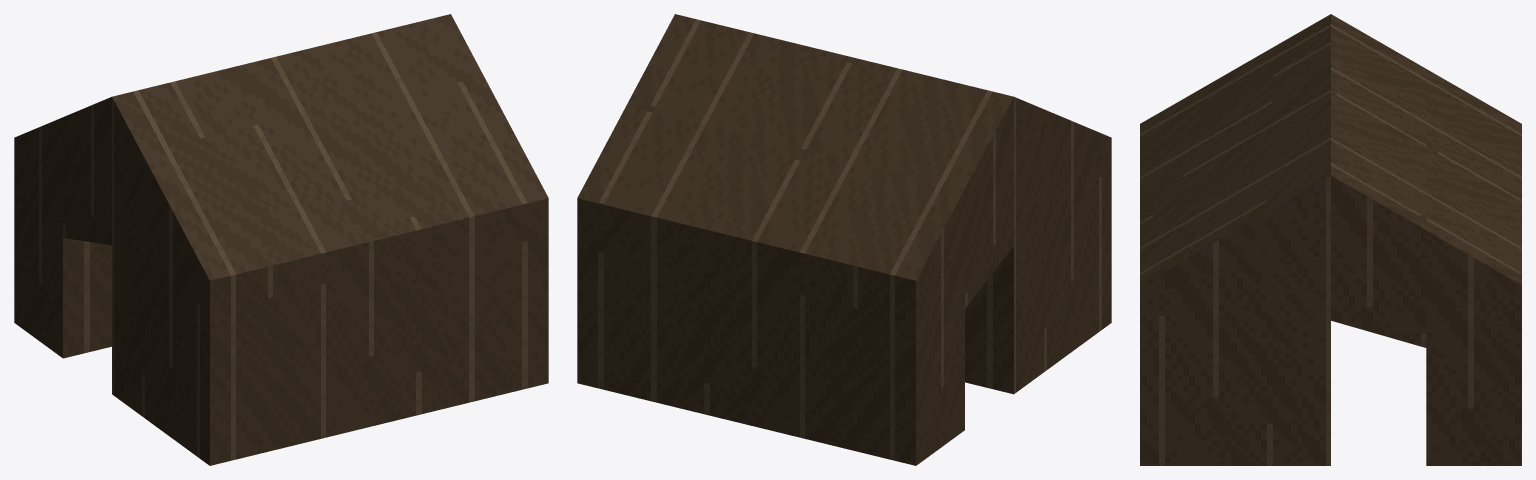
Rendered from house.obj.
3 renders of one model, left to right at view 1: azimuth 30°, elevation 25°; view 2: azimuth 150°, elevation 25°; view 3: azimuth 270°, elevation 25°, orthographic. The views are drawn at different scales.
Parts seen in each view (by area): view 1: Cube, Cube.001, Cube.002; view 2: Cube.001, Cube.002, Cube; view 3: Cube, Cube.001, Cube.002.
Part boxes in pixels (<box>): Cube: <box>112,14,548,465</box>; Cube.001: <box>14,117,111,358</box>; Cube.002: <box>63,97,111,245</box>; Cube.001: <box>577,106,964,465</box>; Cube.002: <box>626,14,1013,308</box>; Cube: <box>965,97,1111,394</box>; Cube: <box>1140,14,1330,465</box>; Cube.001: <box>1426,69,1521,465</box>; Cube.002: <box>1331,14,1426,347</box>.
Bounding box in the file's own units: 6.27 × 5.27 × 6.27.
Materials: 1 (1 with a texture image).
